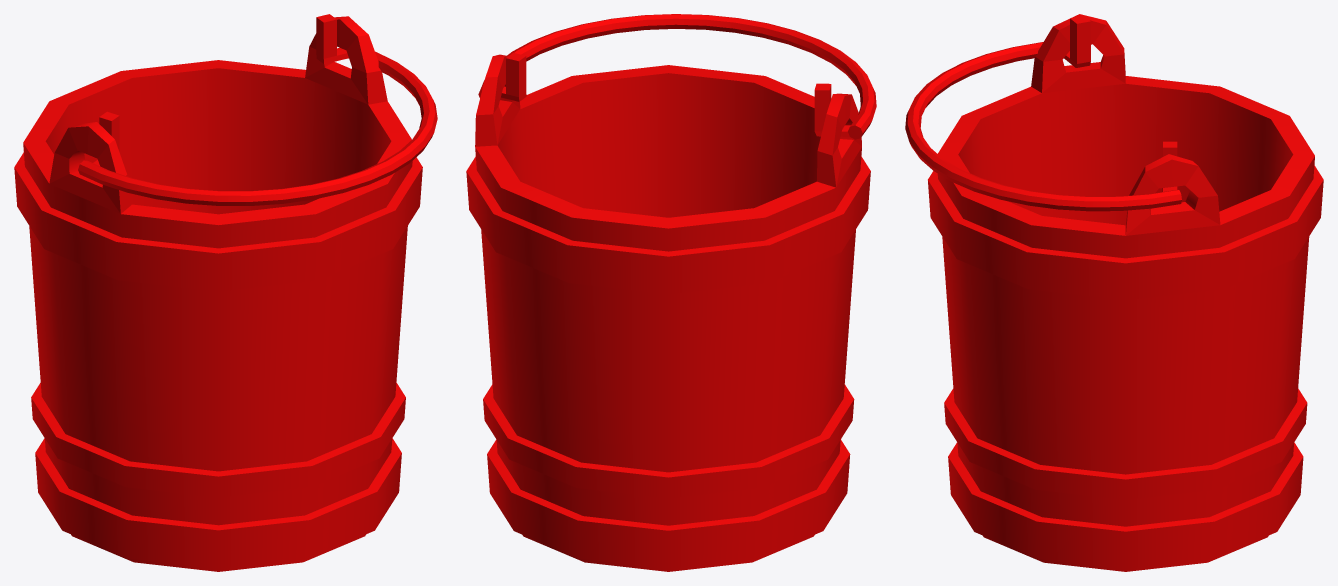
File: Barrel.fbx
3 renders of one model, left to right at view 1: azimuth 30°, elevation 25°; view 2: azimuth 150°, elevation 25°; view 3: azimuth 270°, elevation 25°, orthographic. The views are drawn at different scales.
Parts seen in each view (by area): view 1: Arc001; view 2: Arc001; view 3: Arc001.
Boxes of the visible parts, box(x1,y1,x2,y2) form: Arc001: box(14, 14, 437, 571); Arc001: box(466, 14, 876, 571); Arc001: box(905, 14, 1323, 571).
Size of the model in its own units: 72.82 by 84.79 by 76.56.
